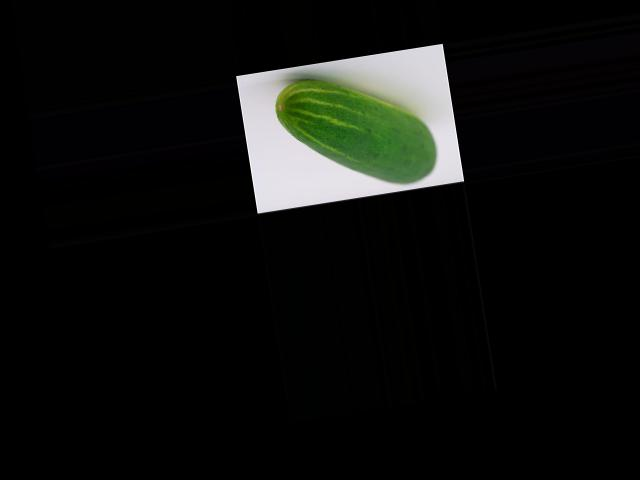cucumber: (272, 61, 441, 201)
